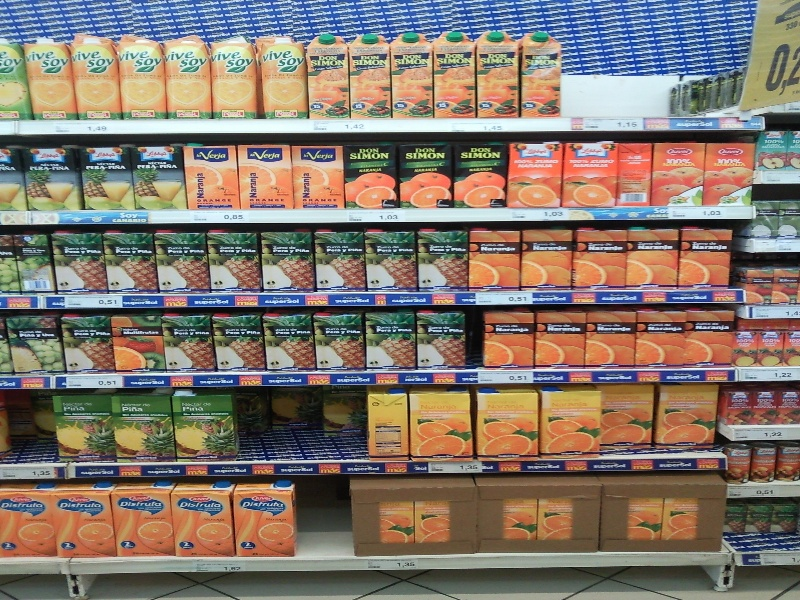juice: (172, 390, 244, 464), (235, 482, 303, 559), (172, 486, 239, 561), (52, 485, 120, 558), (410, 392, 479, 459), (112, 487, 178, 557), (66, 34, 121, 118), (255, 35, 308, 119), (116, 35, 169, 119), (25, 36, 77, 121), (182, 140, 241, 212), (211, 36, 262, 118), (165, 39, 217, 119), (476, 30, 523, 117), (303, 33, 351, 118), (109, 307, 170, 372), (432, 32, 478, 118), (572, 221, 629, 290), (508, 143, 566, 210), (389, 34, 435, 118), (348, 35, 393, 119), (679, 226, 737, 289), (519, 33, 562, 116), (366, 226, 420, 291), (314, 230, 369, 292), (626, 224, 679, 288), (417, 227, 468, 292), (706, 140, 753, 206)
